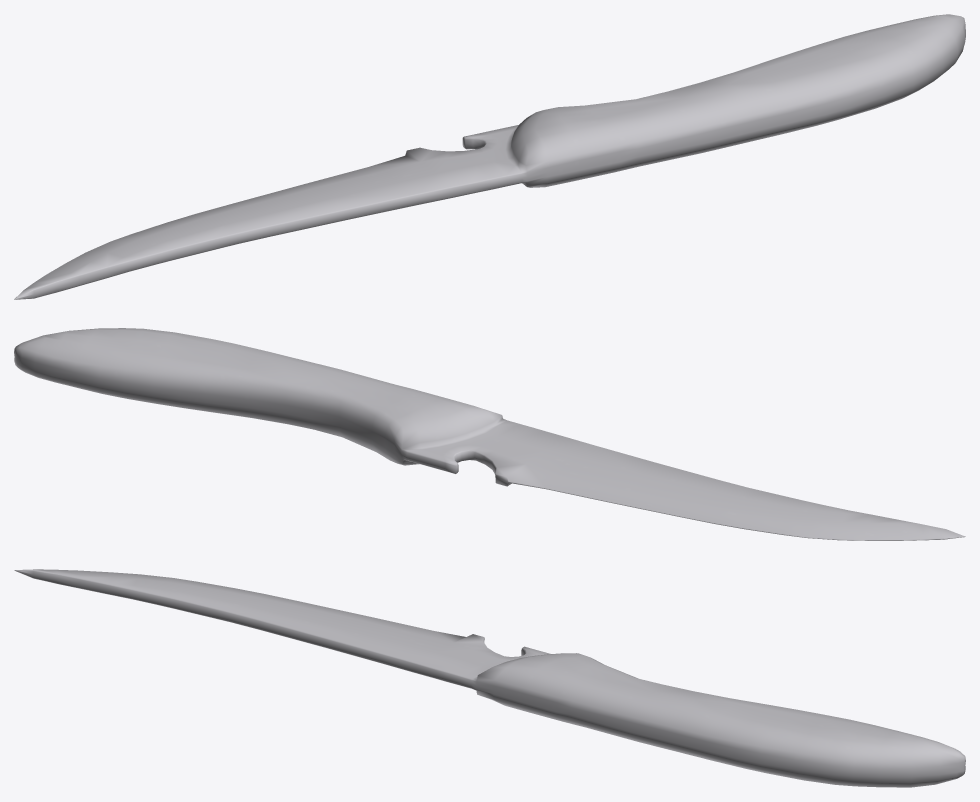
3 views of the same model, one above another, from view 1: azimuth 30°, elevation 25°; view 2: azimuth 150°, elevation 25°; view 3: azimuth 330°, elevation 25° (orthographic). The views are drawn at different scales.
Bounding box in the file's own units: 1 × 0.0516 × 0.111.
